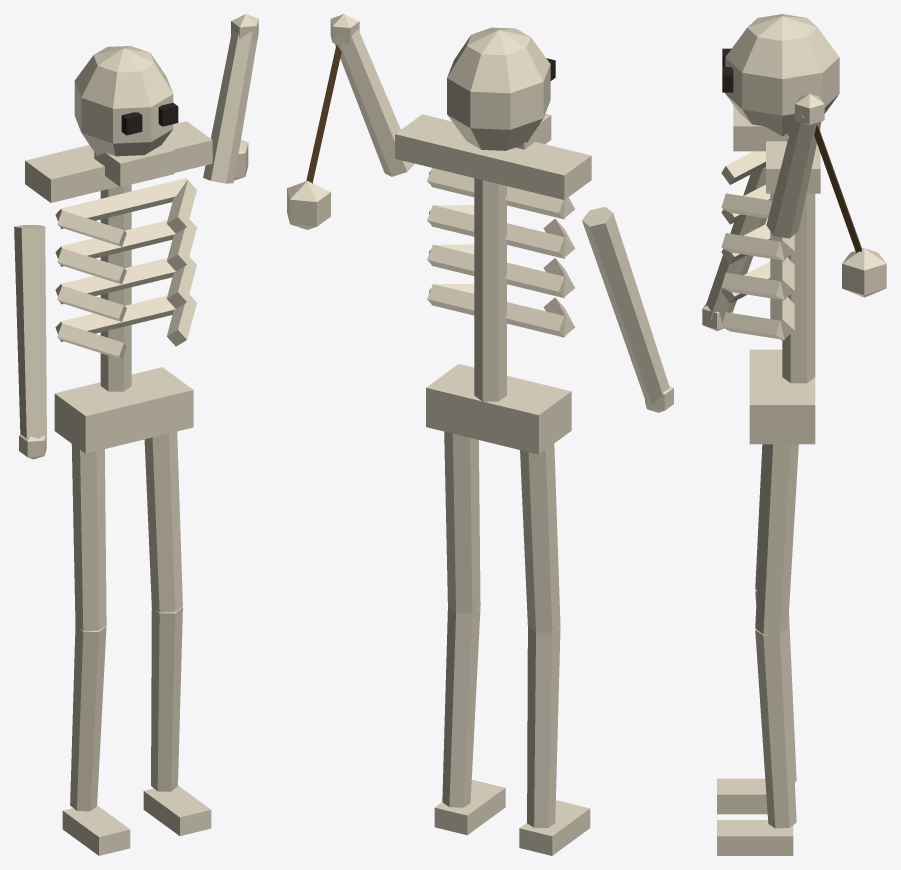
Rendered from schleuderer.glb.
3 views of the same model, side by side, from view 1: azimuth 30°, elevation 25°; view 2: azimuth 150°, elevation 25°; view 3: azimuth 270°, elevation 25° (orthographic). The views are drawn at different scales.
Size of the model in its own units: 0.6564 by 1.64 by 0.3383.
Materials: 1 (1 with a texture image).
